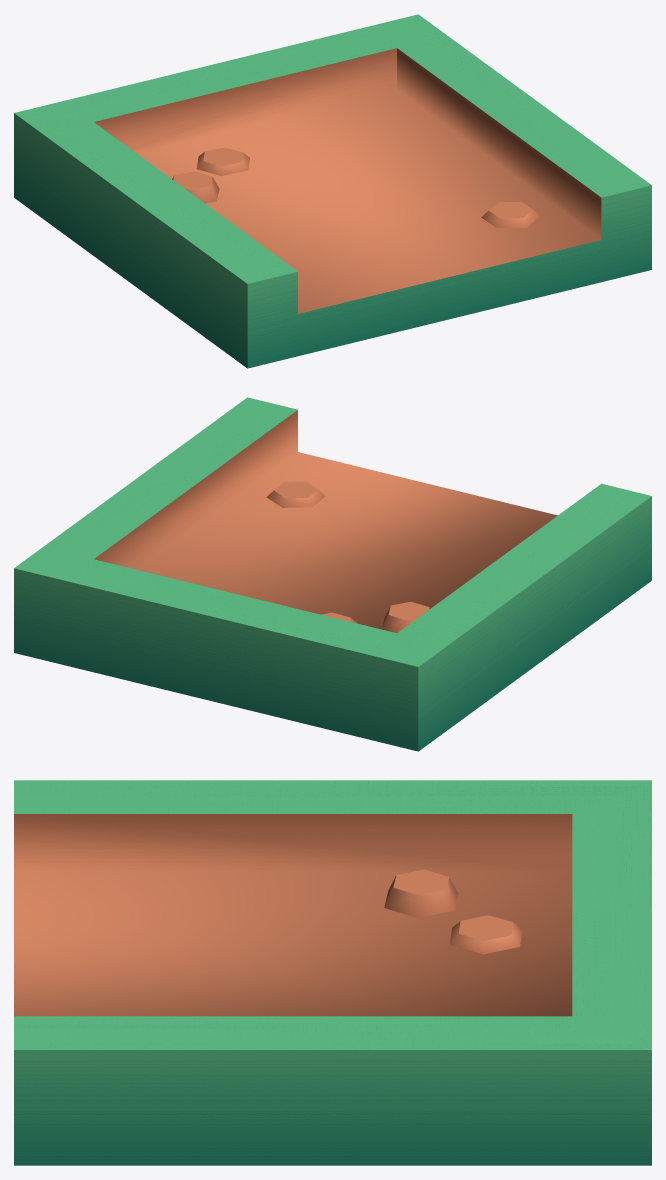
The model's file is tower-defense-kit--tile-end.glb.
The picture shows the model from 3 angles, top to bottom: view 1: azimuth 30°, elevation 25°; view 2: azimuth 150°, elevation 25°; view 3: azimuth 270°, elevation 25°; orthographic projection. The views are drawn at different scales.
Parts seen in each view (by area): view 1: tile-end; view 2: tile-end; view 3: tile-end.
Part boxes in pixels (x1,y1,x2,y2): tile-end: [14, 14, 651, 368]; tile-end: [14, 397, 651, 751]; tile-end: [14, 780, 651, 1165].
Bounding box in the file's own units: 1 × 0.2 × 1.
Materials: 1 (1 with a texture image).
